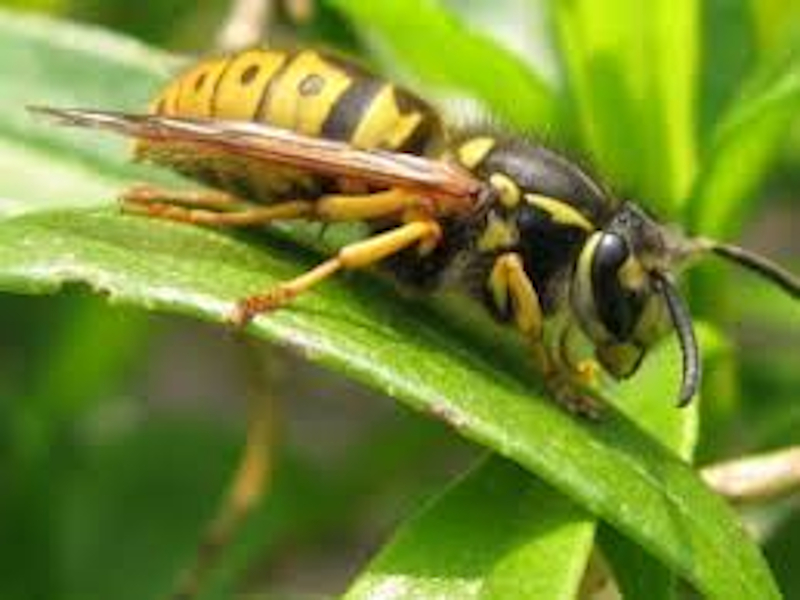chax: (45, 21, 791, 413)
